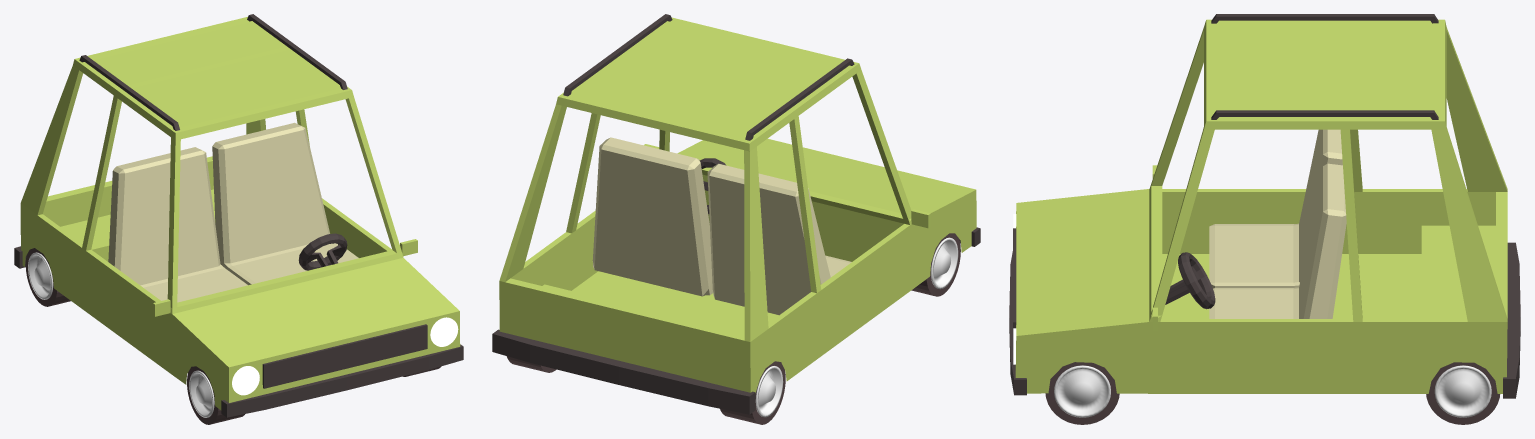
The model's file is lowpolycar.gltf.
The picture shows the model from 3 angles, left to right: view 1: azimuth 30°, elevation 25°; view 2: azimuth 150°, elevation 25°; view 3: azimuth 270°, elevation 25°; orthographic projection. The views are drawn at different scales.
Parts seen in each view (by area): view 1: car_body.001, car_chair.001, car_front_2.001, car_front.001, car_wheel_center.001, car_top.001, car_light.001, car_tire.001, car_steering.001; view 2: car_body.001, car_chair.001, car_back.001, car_wheel_center.001, car_top.001, car_tire.001; view 3: car_body.001, car_chair.001, car_wheel_center.001, car_top.001, car_tire.001, car_back.001, car_steering.001, car_front.001.
Part boxes in pixels (bbox=[...]): car_body.001: bbox=[20, 17, 460, 410]; car_chair.001: bbox=[108, 122, 358, 302]; car_front_2.001: bbox=[262, 324, 427, 388]; car_front.001: bbox=[221, 344, 463, 417]; car_wheel_center.001: bbox=[28, 252, 214, 417]; car_top.001: bbox=[79, 14, 347, 130]; car_light.001: bbox=[232, 317, 458, 395]; car_tire.001: bbox=[25, 248, 441, 424]; car_steering.001: bbox=[298, 233, 347, 270]; car_body.001: bbox=[499, 17, 976, 392]; car_chair.001: bbox=[592, 137, 851, 315]; car_back.001: bbox=[492, 329, 755, 414]; car_wheel_center.001: bbox=[755, 237, 958, 417]; car_top.001: bbox=[563, 14, 854, 140]; car_tire.001: bbox=[506, 233, 960, 424]; car_body.001: bbox=[1015, 19, 1507, 393]; car_chair.001: bbox=[1209, 129, 1346, 318]; car_wheel_center.001: bbox=[1054, 365, 1491, 417]; car_top.001: bbox=[1211, 14, 1438, 119]; car_tire.001: bbox=[1045, 362, 1500, 424]; car_back.001: bbox=[1503, 242, 1520, 398]; car_steering.001: bbox=[1165, 252, 1215, 309]; car_front.001: bbox=[1009, 251, 1026, 395].
Size of the model in its own units: 1.53 by 1.39 by 2.18.
